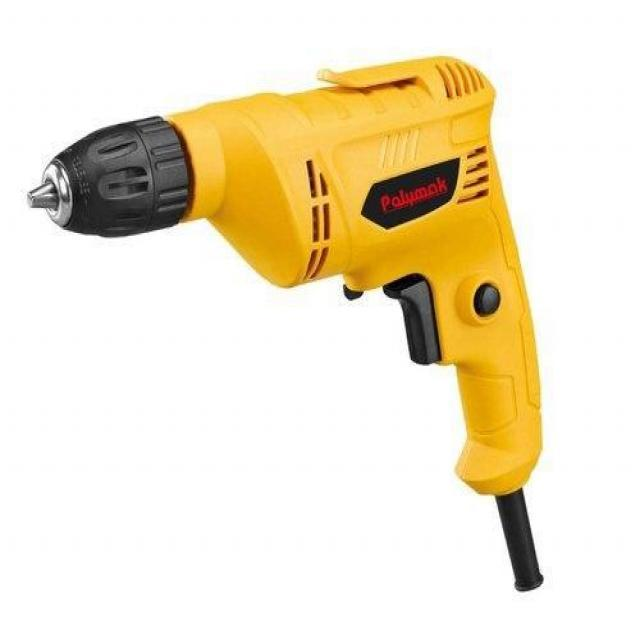drill: (26, 56, 546, 594)
